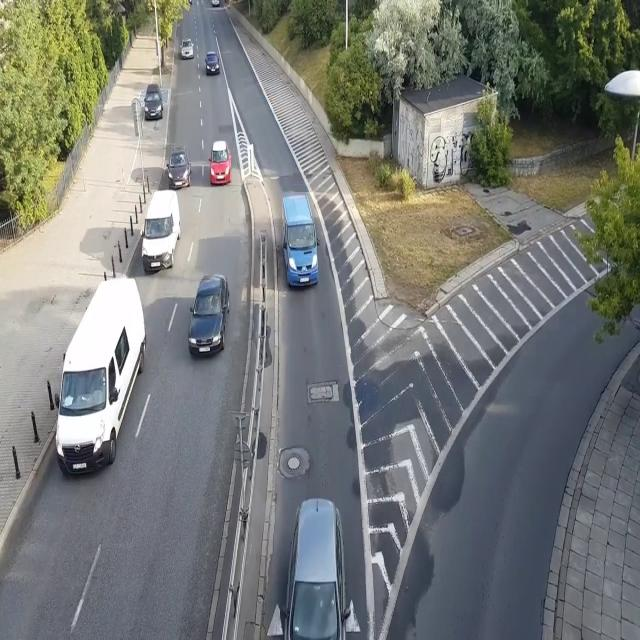car: (279, 496, 353, 640), (188, 272, 231, 356), (164, 144, 192, 187), (208, 140, 232, 186), (144, 84, 164, 120), (203, 50, 220, 75), (180, 37, 195, 60), (212, 0, 220, 7)
van: (55, 276, 148, 477), (280, 191, 321, 291), (140, 189, 182, 274)
